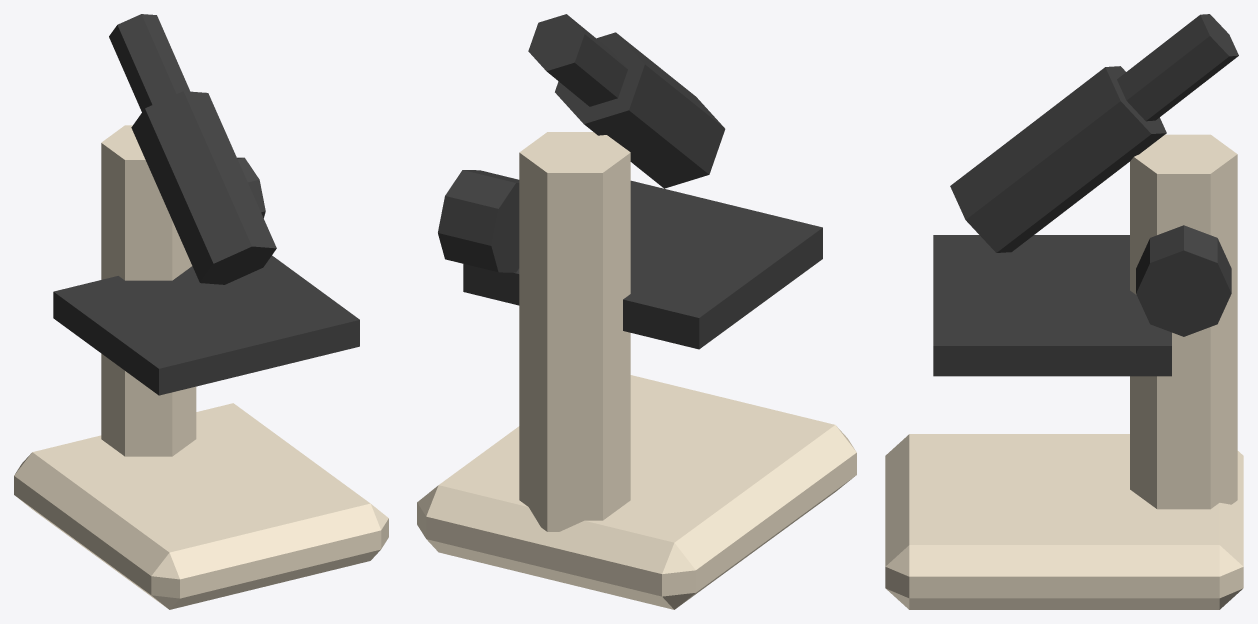
3 renders of one model, left to right at view 1: azimuth 30°, elevation 25°; view 2: azimuth 150°, elevation 25°; view 3: azimuth 270°, elevation 25°, orthographic. The views are drawn at different scales.
Visible parts, largest first — view 1: Foot, Stage, Arm, Optical barrel, Eyepiece, Focus knob; view 2: Foot, Arm, Stage, Optical barrel, Focus knob, Eyepiece; view 3: Foot, Stage, Arm, Optical barrel, Focus knob, Eyepiece.
Boxes of the visible parts, x1,y1,x2,y2 form: Foot: [14, 403, 388, 609]; Stage: [53, 255, 359, 395]; Arm: [101, 125, 196, 456]; Optical barrel: [131, 91, 276, 284]; Eyepiece: [109, 14, 190, 111]; Focus knob: [237, 157, 265, 217]; Foot: [417, 375, 856, 609]; Arm: [519, 132, 630, 531]; Stage: [463, 180, 822, 349]; Optical barrel: [555, 32, 725, 188]; Focus knob: [438, 170, 519, 272]; Eyepiece: [528, 14, 627, 106]; Foot: [885, 434, 1243, 609]; Stage: [933, 235, 1171, 376]; Arm: [1130, 134, 1237, 509]; Optical barrel: [950, 66, 1166, 252]; Focus knob: [1136, 225, 1231, 336]; Eyepiece: [1117, 14, 1238, 121].
Size of the model in its own units: 0.26 by 0.499 by 0.3.
Materials: 1 (1 with a texture image).
